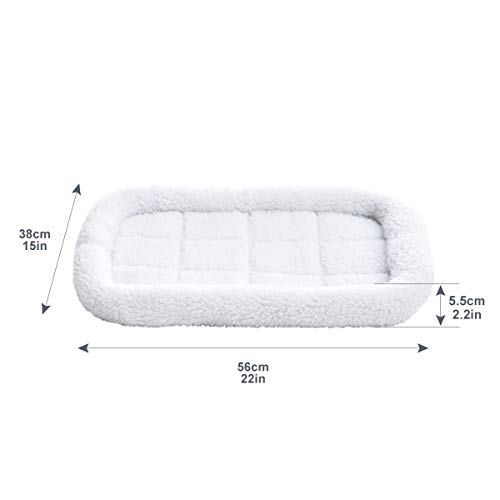22in: (241, 373, 265, 384)
56cm: (237, 362, 269, 372)
